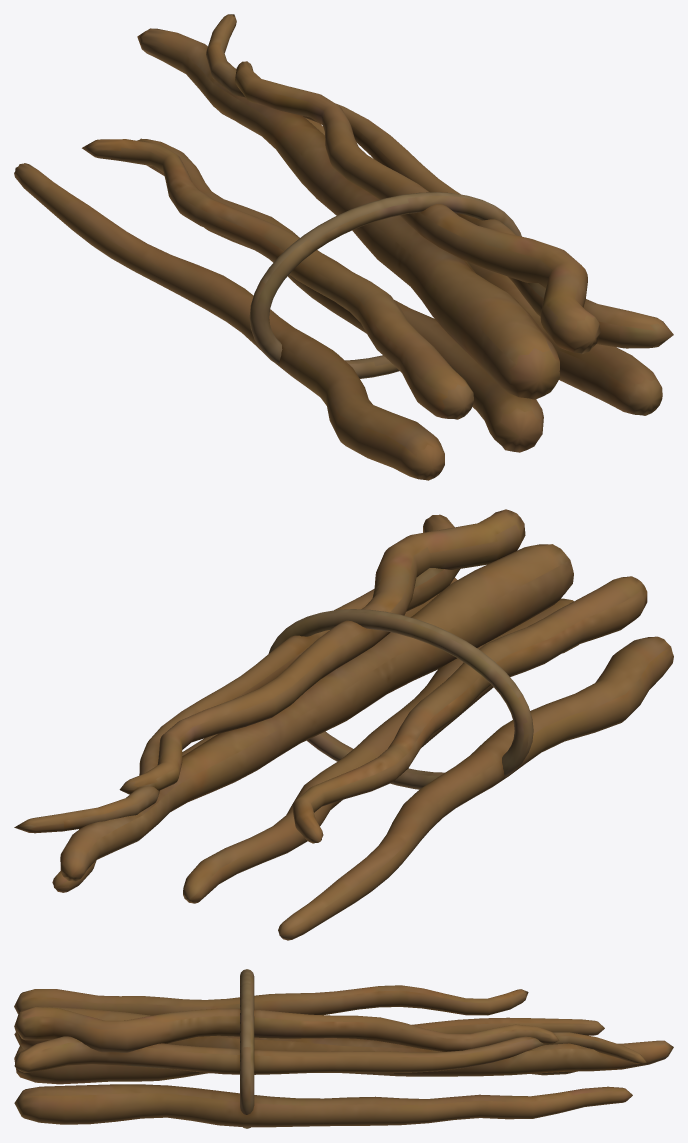
Rendered from liquorice.glb.
3 renders of one model, top to bottom at view 1: azimuth 30°, elevation 25°; view 2: azimuth 150°, elevation 25°; view 3: azimuth 270°, elevation 25°, orthographic. The views are drawn at different scales.
Visible parts, largest first — view 1: liquorice; view 2: liquorice; view 3: liquorice.
Boxes of the visible parts, x1,y1,x2,y2 form: liquorice: [14, 14, 673, 480]; liquorice: [14, 509, 673, 940]; liquorice: [14, 969, 673, 1128].
Bounding box in the file's own units: 0.0526 × 0.0312 × 0.1474.
1 material, 1 textured.
